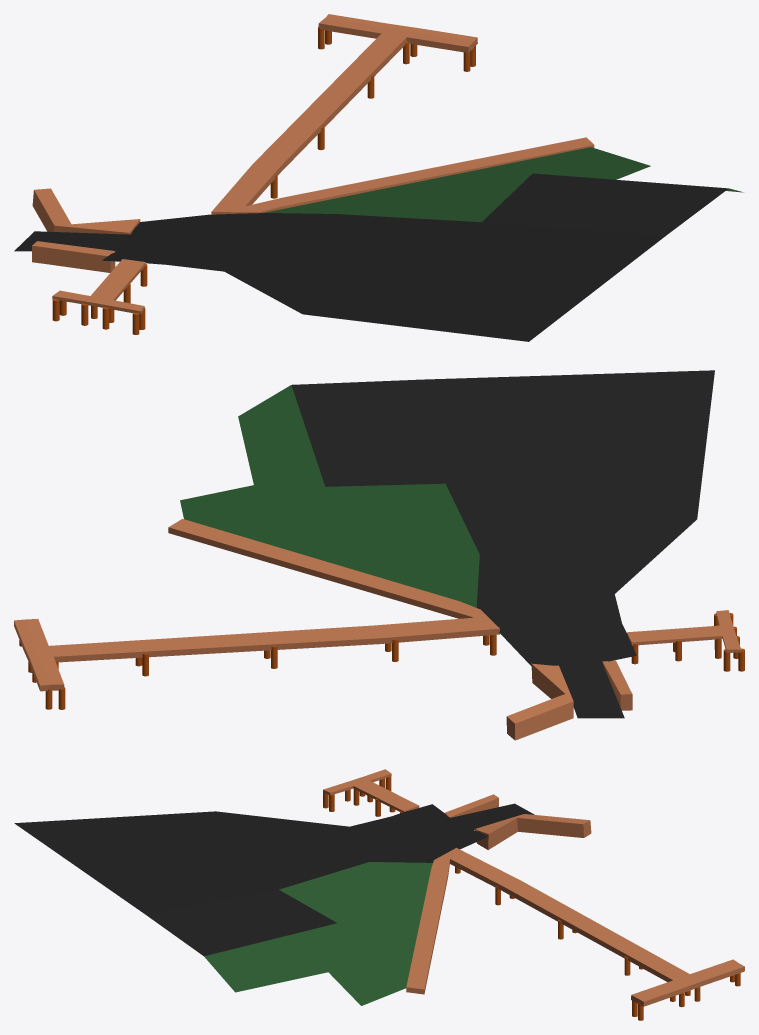
File: boatramp6.glb
3 renders of one model, top to bottom at view 1: azimuth 30°, elevation 25°; view 2: azimuth 150°, elevation 25°; view 3: azimuth 270°, elevation 25°, orthographic. The views are drawn at different scales.
Parts seen in each view (by area): view 1: Boat Launch; view 2: Boat Launch; view 3: Boat Launch.
Boxes of the visible parts, x1,y1,x2,y2 form: Boat Launch: [14, 14, 743, 341]; Boat Launch: [14, 370, 744, 740]; Boat Launch: [14, 769, 744, 1020].
Size of the model in its own units: 0.235 by 0.032 by 0.2988.
